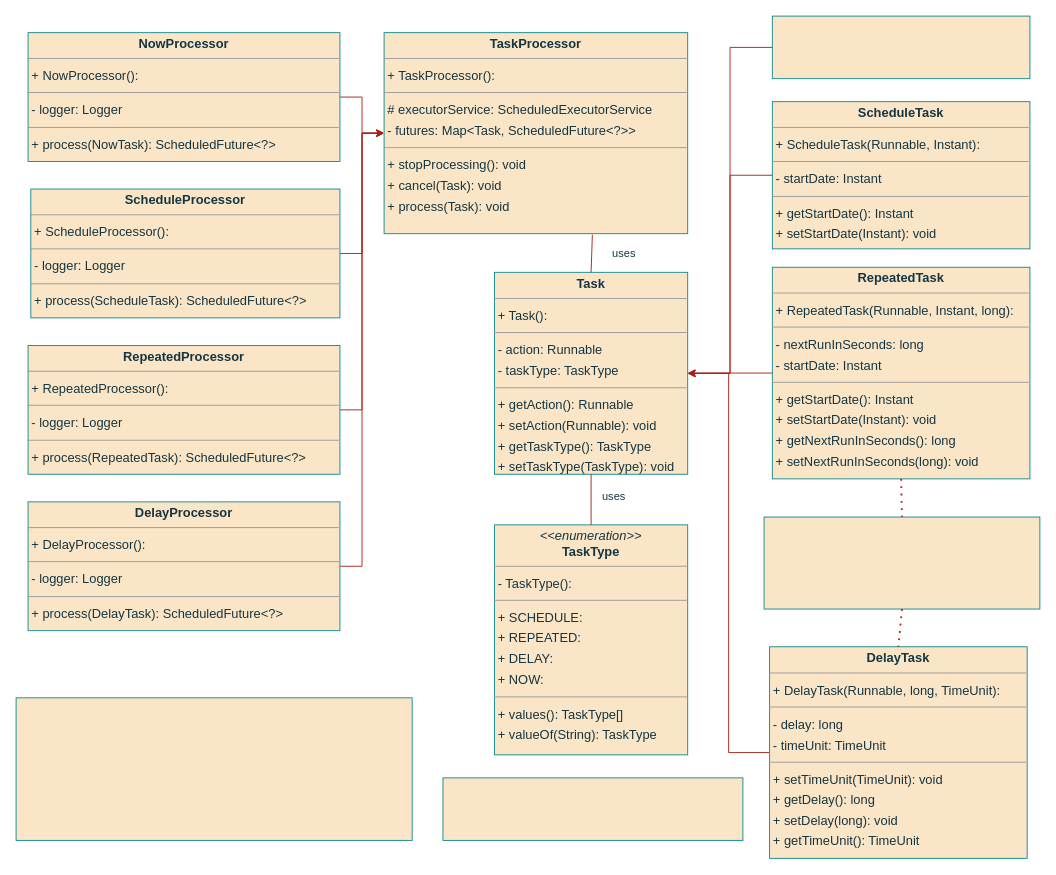
This 1056x875 diagram has some shape labels left out. Here are the shapes that lost their labels. From the top down, the centre of each, then its label:
At point 900,47: "NowTask + NowTask(Runnable):".
At point 901,562: "TimeService + TimeService(): + calculateAmountOfSeconds(Instant): long".
At point 213,768: "Main + Main(): + main(String[]): void".
At point 592,808: "TaskProcessingException + TaskProcessingException(String, Throwable):".
